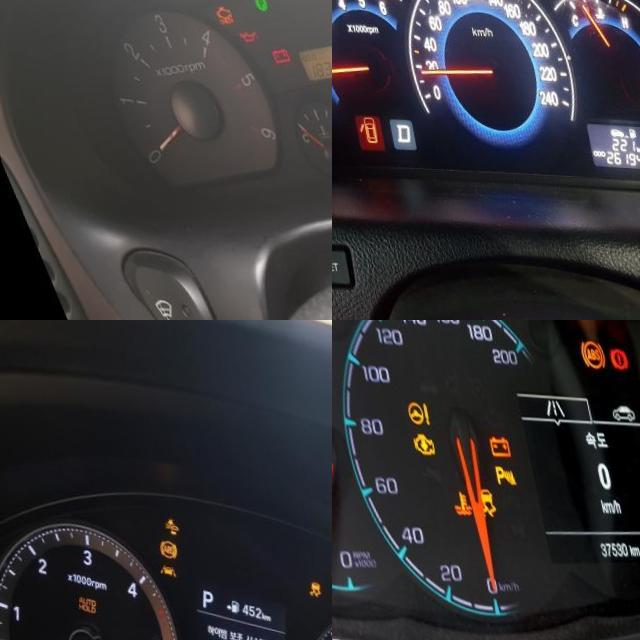Central Warning lamp: (316, 556, 332, 573)
Doors: (342, 113, 364, 142)
Engine cooling system: (433, 486, 456, 513)
LaneCenteringOff: (145, 558, 166, 574)
